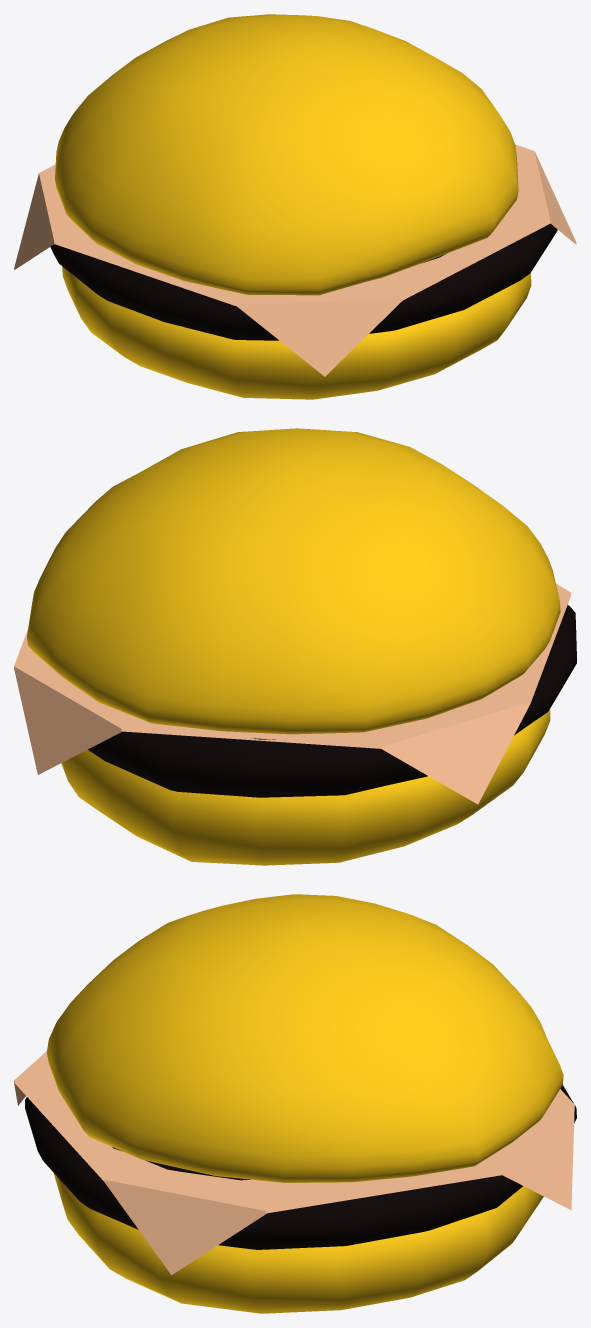
Rendered from Hamburger.FBX.
3 views of the same model, one above another, from view 1: azimuth 30°, elevation 25°; view 2: azimuth 150°, elevation 25°; view 3: azimuth 270°, elevation 25° (orthographic). The views are drawn at different scales.
Visible parts, largest first — view 1: Hamburger, Peynir, Köfte; view 2: Hamburger, Peynir, Köfte; view 3: Hamburger, Peynir, Köfte.
Part boxes in pixels (x1,y1,x2,y2): Hamburger: (55, 14, 531, 399); Peynir: (14, 144, 576, 376); Köfte: (50, 223, 557, 340); Hamburger: (27, 428, 560, 865); Peynir: (14, 583, 570, 804); Köfte: (88, 605, 576, 797); Hamburger: (46, 894, 563, 1313); Peynir: (14, 1051, 574, 1274); Köfte: (25, 1085, 576, 1249).
Size of the model in its own units: 117 by 71.6 by 118.
